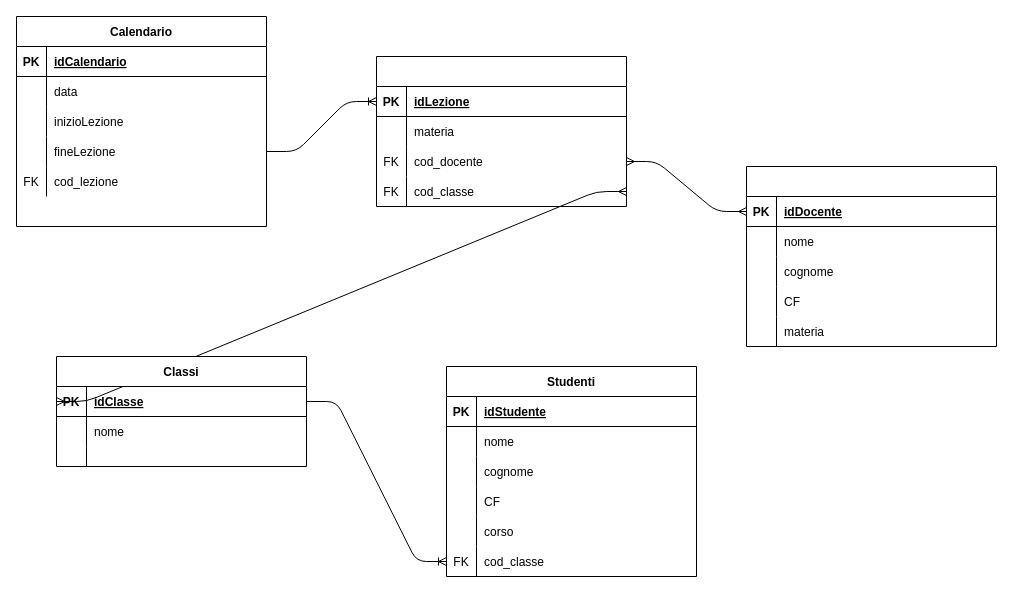
This 1013x593 diagram has some shape labels left out. Each missing label, with the box of its shape:
Docenti: (746, 166, 996, 346)
Lezioni: (376, 56, 626, 206)
